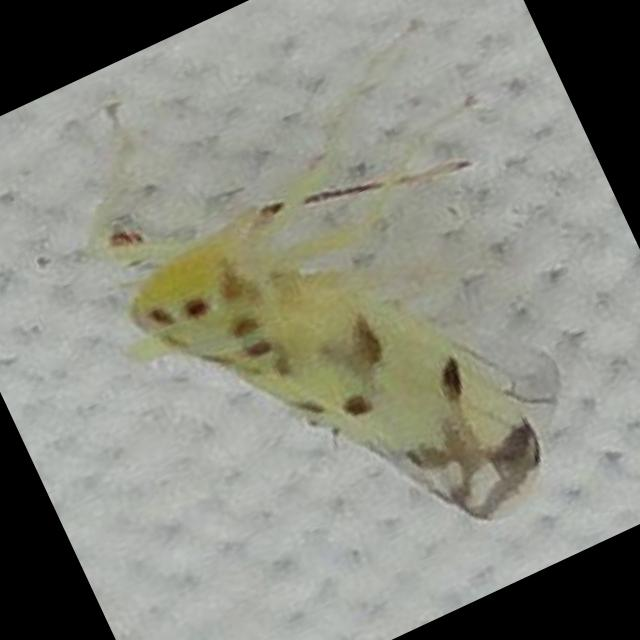green-leafhopper: (91, 105, 594, 627)
